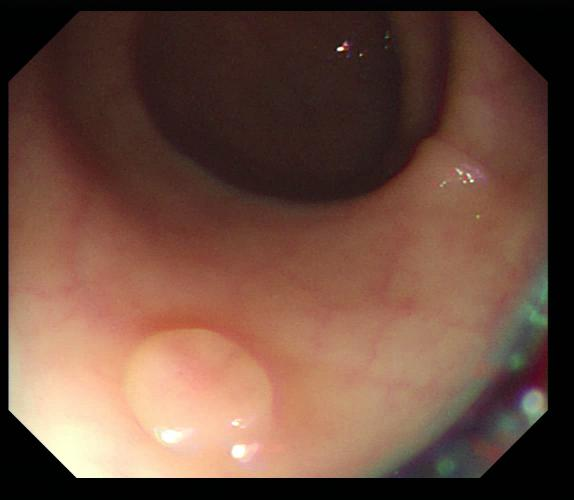polyp: (125, 327, 280, 465)
